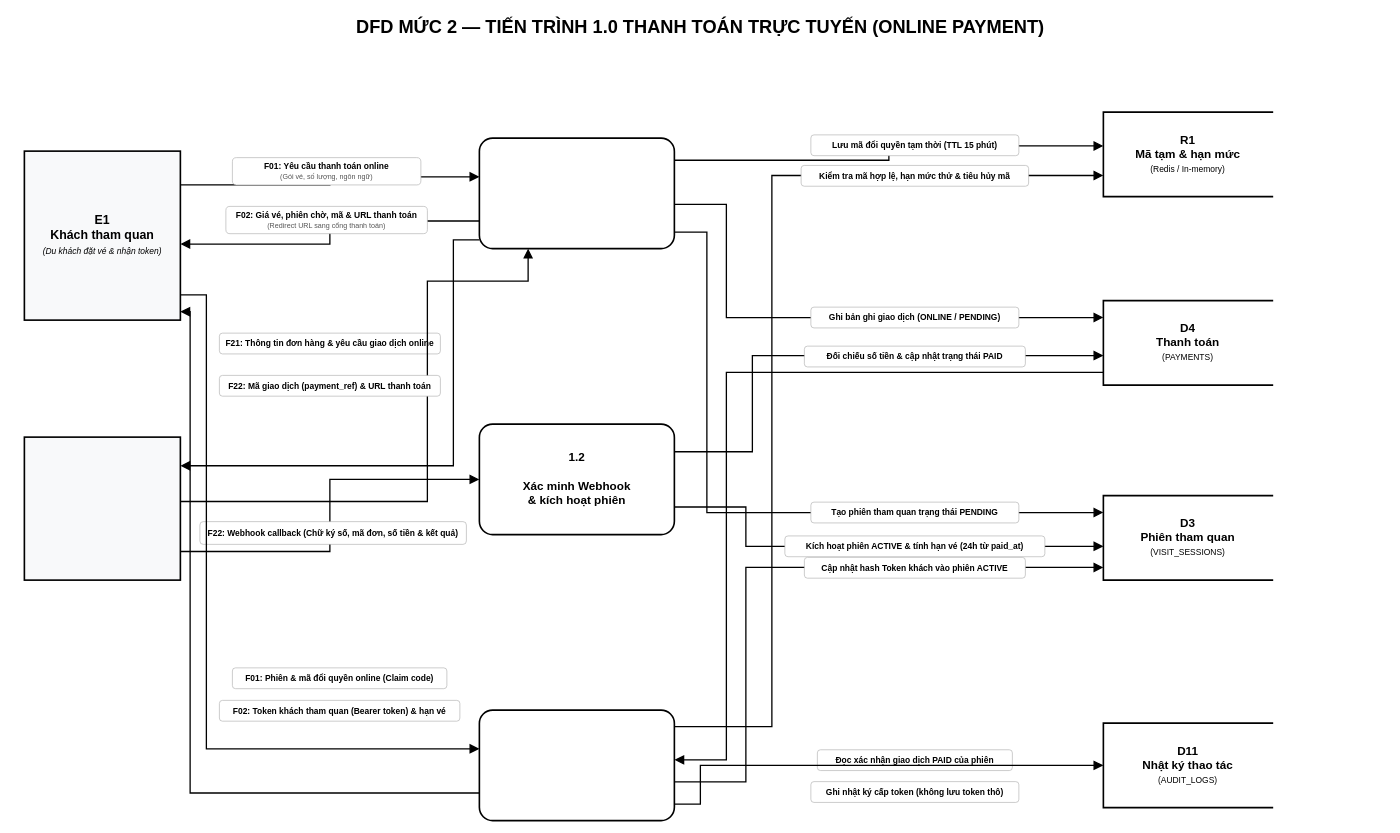
This 1400x833 diagram has some shape labels left out. Here are the shapes that lost their labels. From the top down, the centre of each, then its label:
(x=576, y=193): 1.1 Khởi tạo thanh toán trực tuyến
(x=102, y=508): E4 Cổng thanh toán (VNPay / MoMo / ZaloPay)
(x=576, y=765): 1.3 Đổi mã Online thành Token khách
